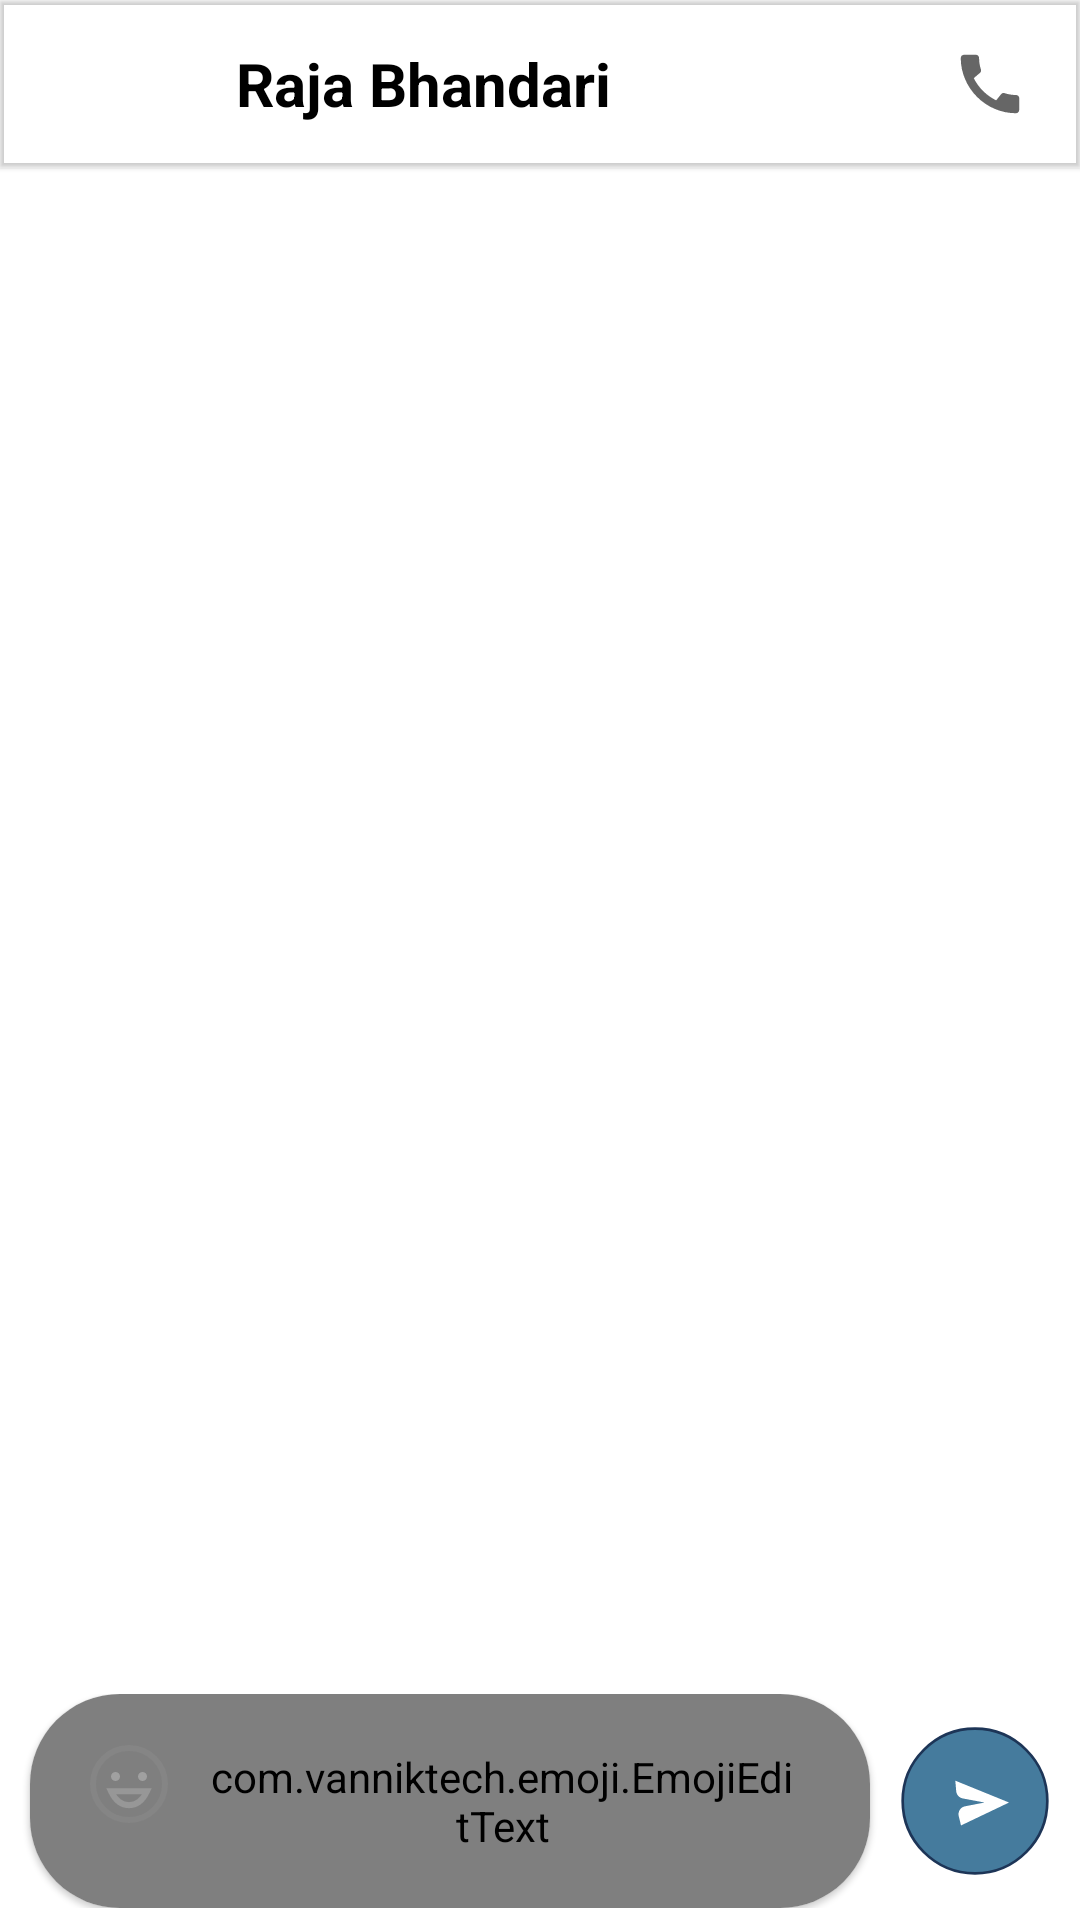

Screen size 1080px×1920px. Icon name, then its center in pixels as point (x, y):
call: point (990, 84)
send: point (975, 1801)
